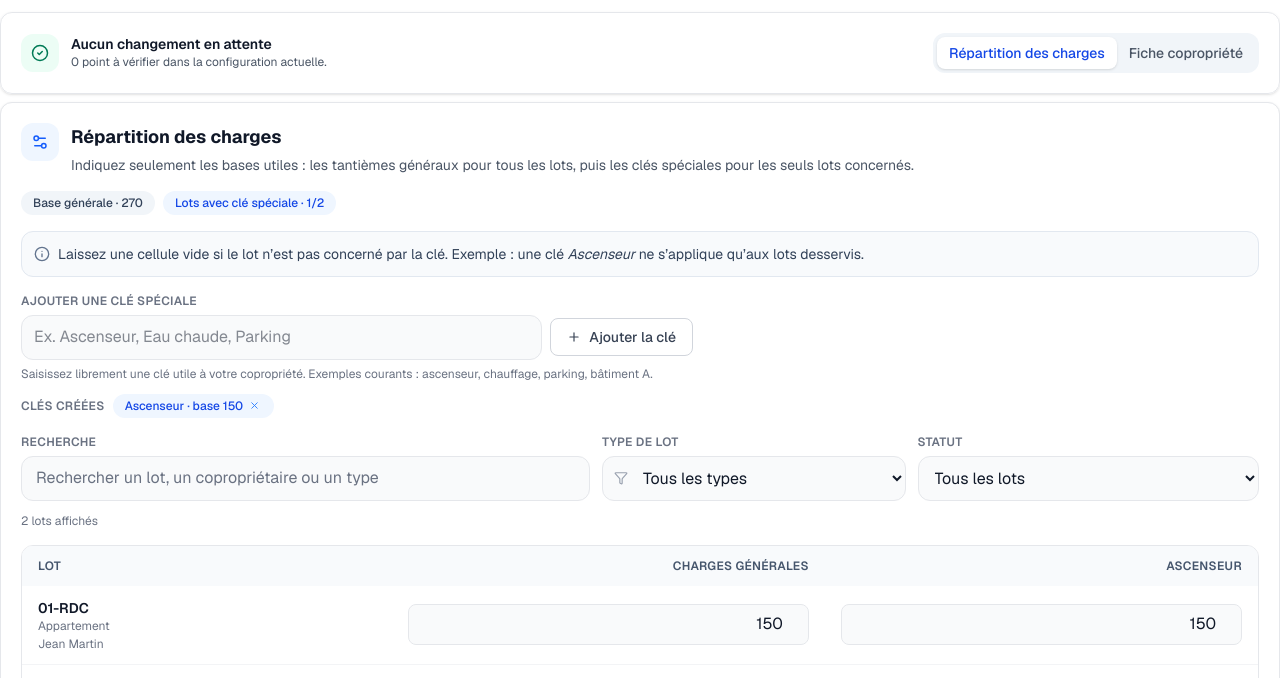
Scenario: CoproSettingsPanel › ouvre une modale in-app avant de quitter la page avec des changements non enregistrés
The image size is (1280, 678).
Click the button "Fiche copropriété" at x=1186, y=53, box [1117,37,1255,69]
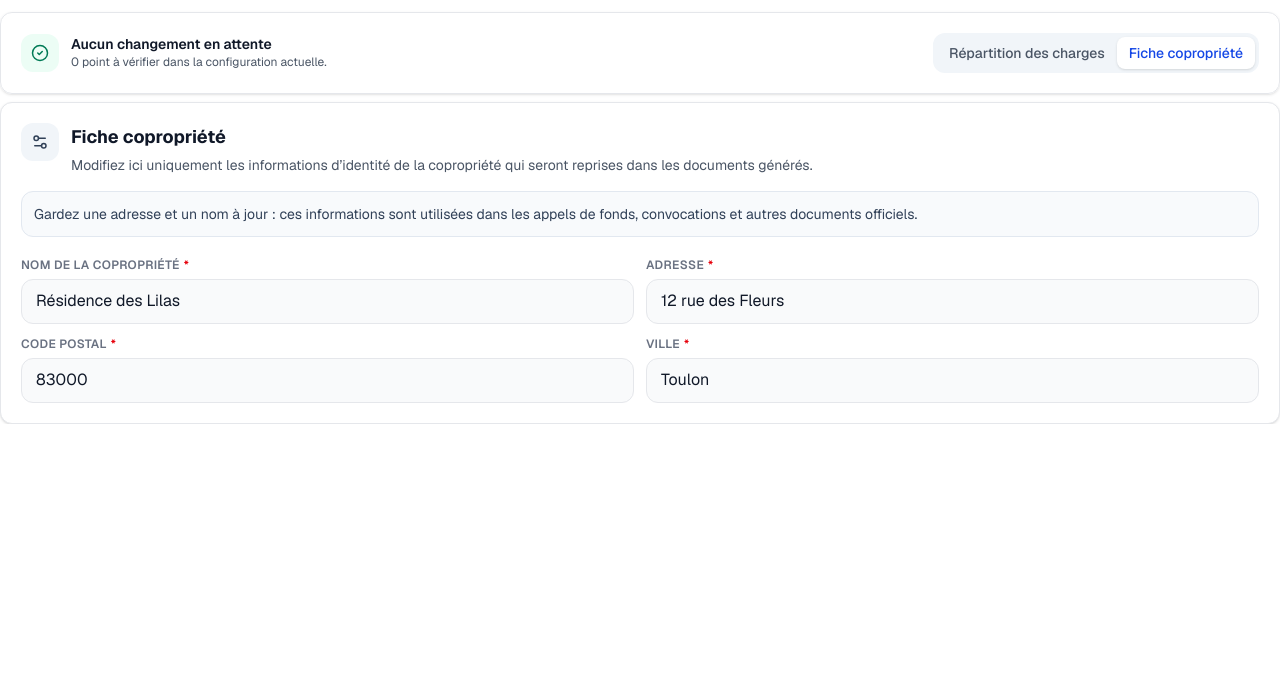
Replace the text in the field labelled "Nom de la copropriété*" with "Résidence des Lilas — B" at x=328, y=301, box [21,279,634,324]
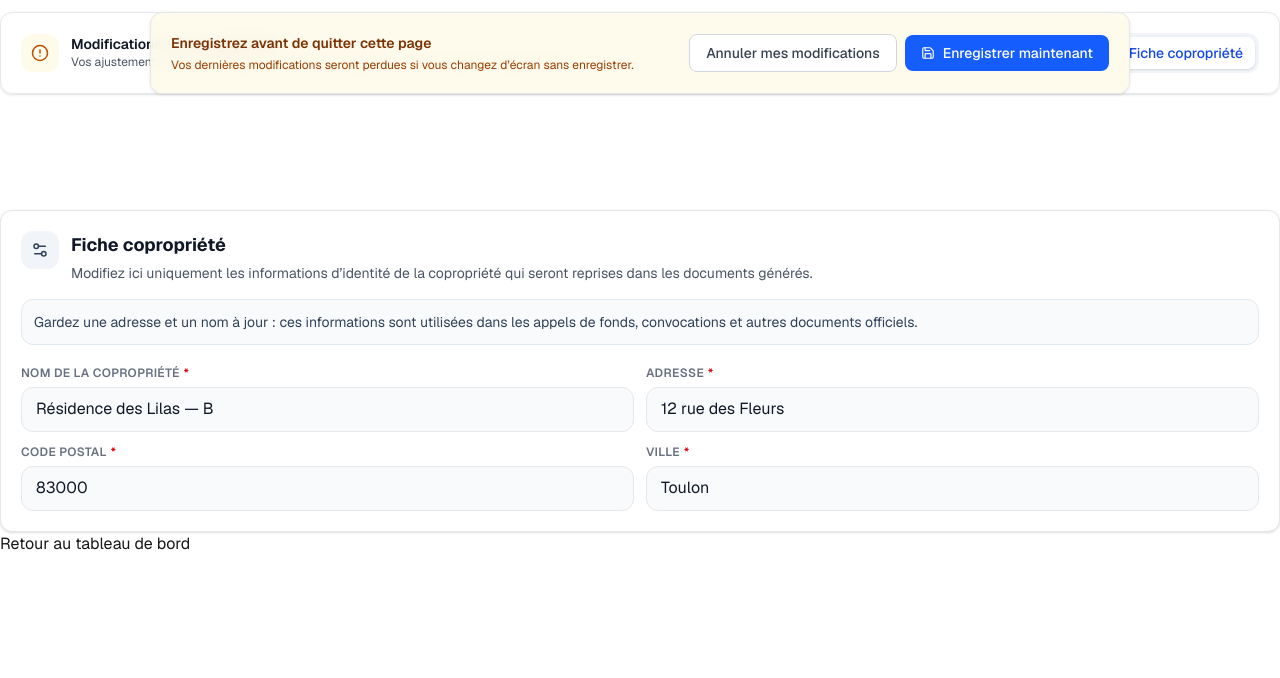
Click the link "Retour au tableau de bord" at x=95, y=543, box [0,533,190,554]
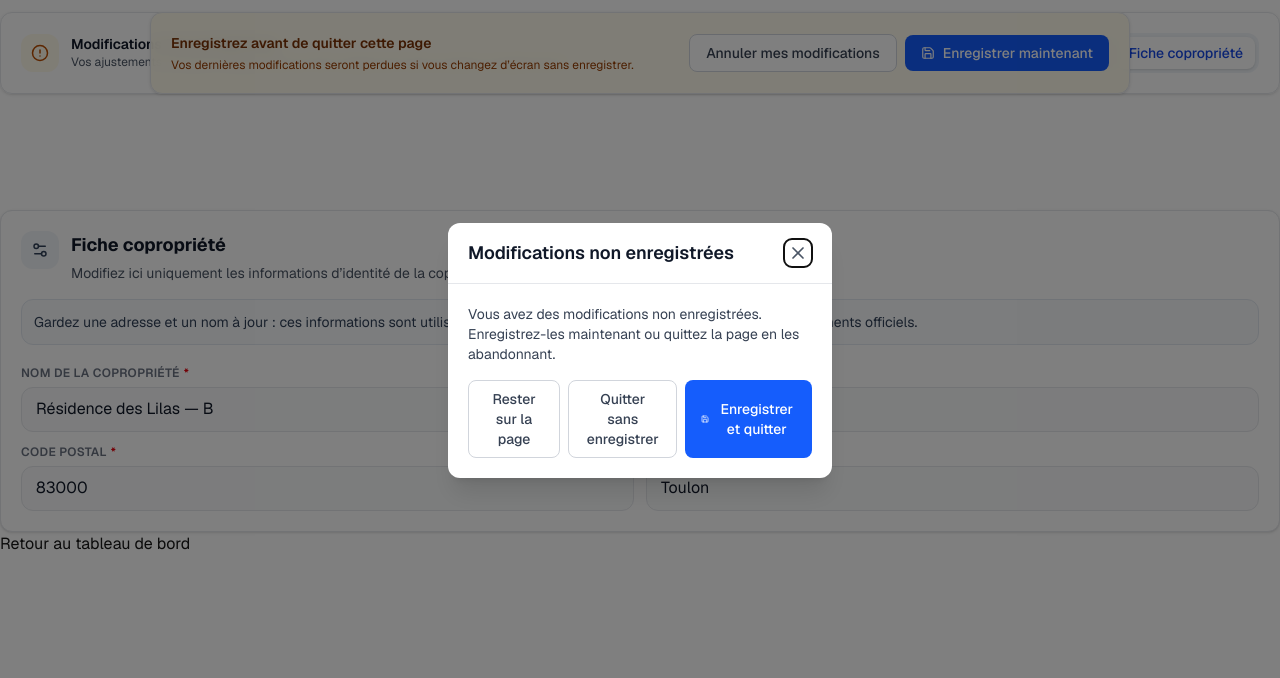
Now the text "Vous avez des modifications non enregistrées" is shown, box [468,304,799,362]
Now the button "Rester sur la page" is shown, box [468,380,560,458]
Now the button "Quitter sans enregistrer" is shown, box [568,380,678,458]
